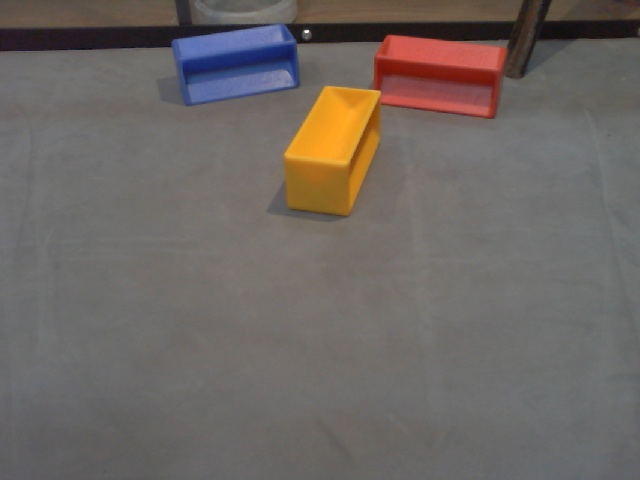BlueSample: (170, 20, 304, 111)
RedSample: (368, 27, 509, 122)
YellowSample: (281, 82, 384, 220)
